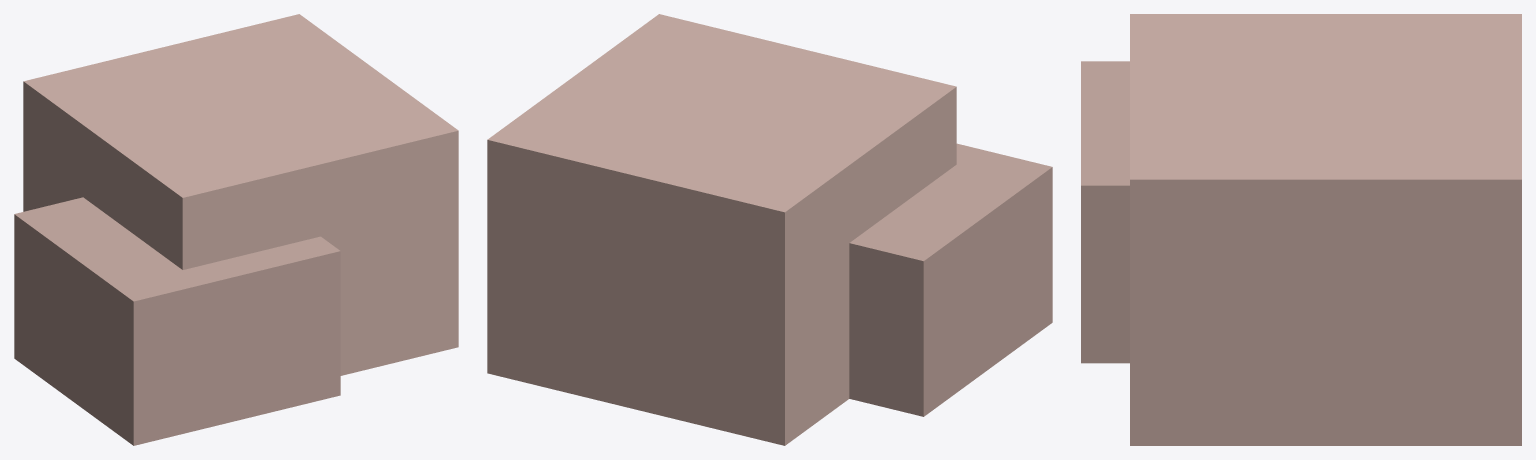
File: roca_coralina_02.glb
3 views of the same model, side by side, from view 1: azimuth 30°, elevation 25°; view 2: azimuth 150°, elevation 25°; view 3: azimuth 270°, elevation 25° (orthographic). The views are drawn at different scales.
Visible parts, largest first — view 1: roca_coralina_02; view 2: roca_coralina_02; view 3: roca_coralina_02.
Part boxes in pixels (x1,y1,x2,y2): roca_coralina_02: [14, 14, 458, 445]; roca_coralina_02: [487, 14, 1052, 445]; roca_coralina_02: [1081, 14, 1521, 445].
Size of the model in its own units: 1 by 0.6 by 0.9.
